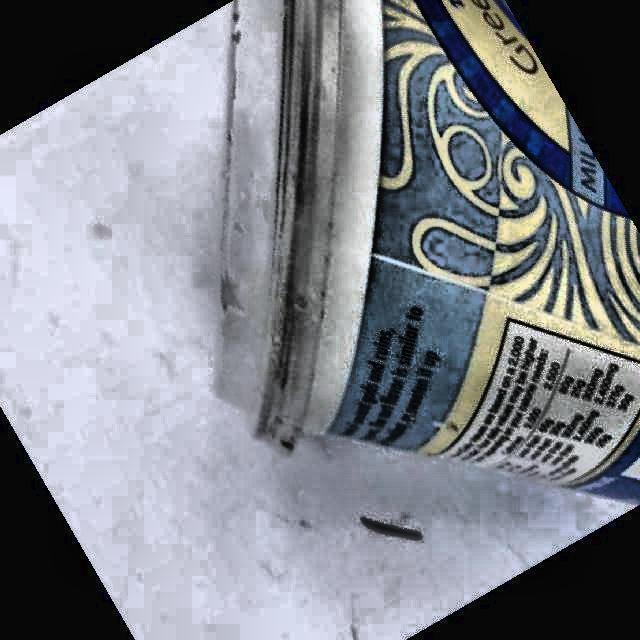plastic: (218, 0, 640, 499)
